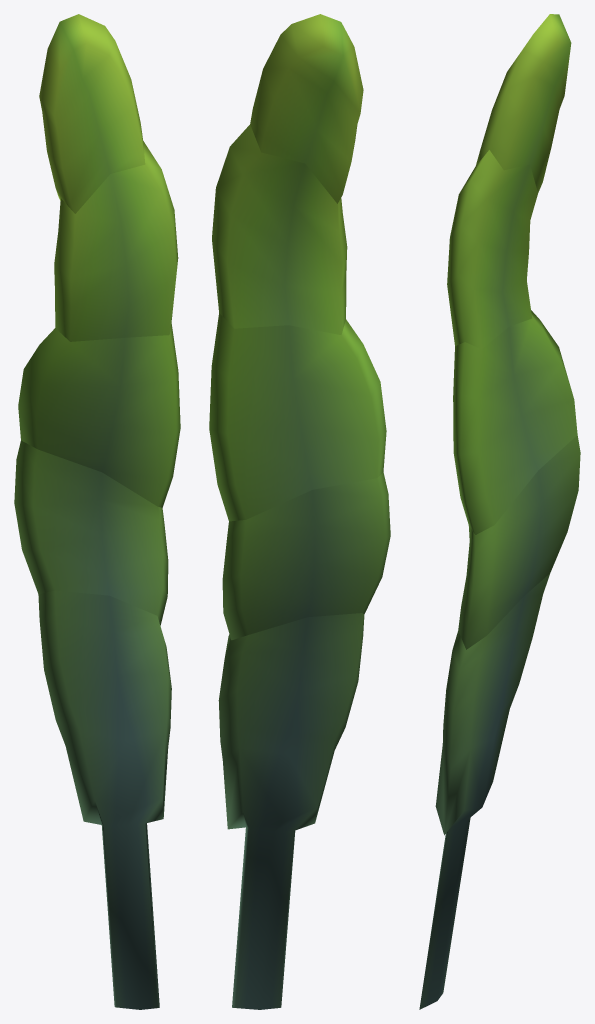
Rendered from Moss_01.fbx.
3 views of the same model, side by side, from view 1: azimuth 30°, elevation 25°; view 2: azimuth 210°, elevation 25°; view 3: azimuth 270°, elevation 25° (orthographic). The views are drawn at different scales.
Parts seen in each view (by area): view 1: Moss_01; view 2: Moss_01; view 3: Moss_01.
Part boxes in pixels (bbox=[...]): Moss_01: bbox=[14, 14, 180, 1009]; Moss_01: bbox=[209, 14, 390, 1009]; Moss_01: bbox=[419, 14, 580, 1009].
Size of the model in its own units: 35.08 by 283 by 41.84.
